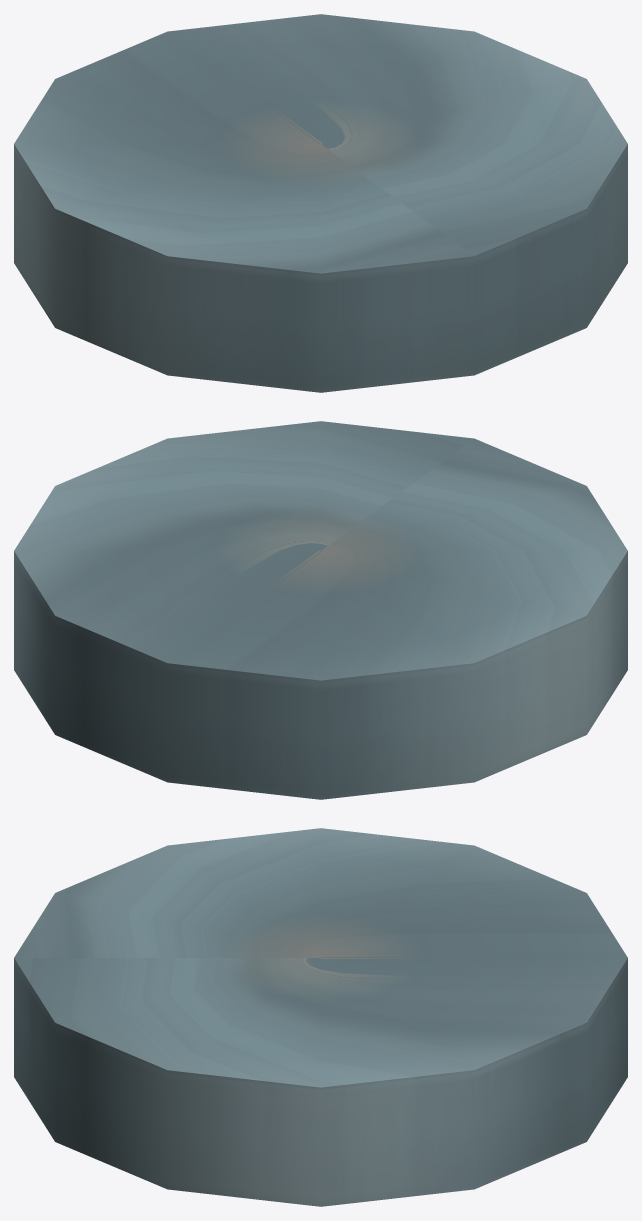
Rendered from set_round_pillar_01_base.fbx.
3 renders of one model, top to bottom at view 1: azimuth 30°, elevation 25°; view 2: azimuth 150°, elevation 25°; view 3: azimuth 270°, elevation 25°, orthographic.
Parts seen in each view (by area): view 1: set_round_pillar_01_base; view 2: set_round_pillar_01_base; view 3: set_round_pillar_01_base.
Part boxes in pixels (x1,y1,x2,y2): set_round_pillar_01_base: (14, 14, 627, 392); set_round_pillar_01_base: (14, 421, 627, 799); set_round_pillar_01_base: (14, 828, 627, 1206).
Size of the model in its own units: 91.95 by 19.7 by 91.95.
